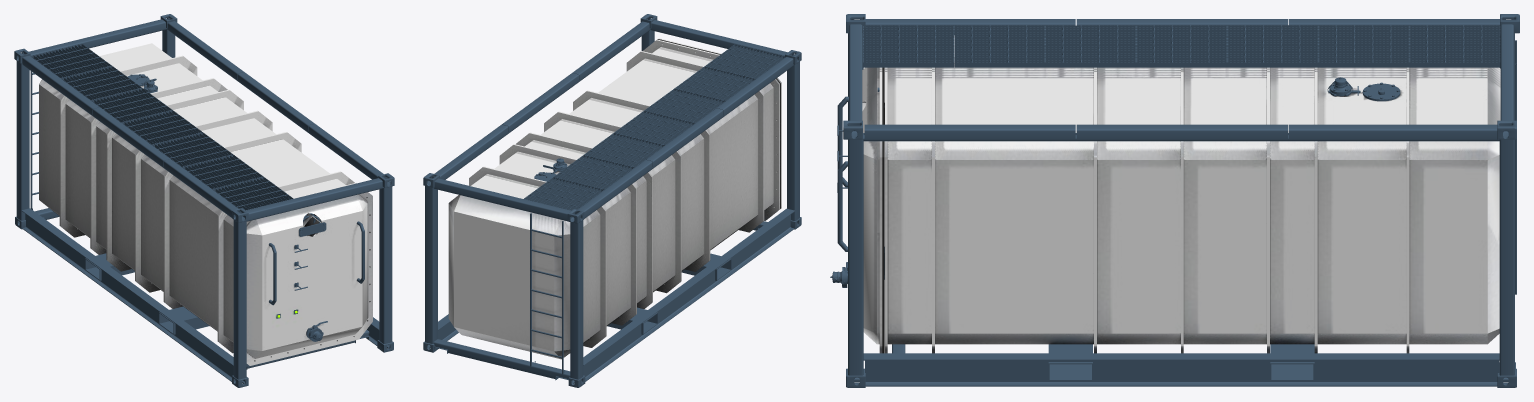
File: kontejner6.glb
3 renders of one model, left to right at view 1: azimuth 30°, elevation 25°; view 2: azimuth 150°, elevation 25°; view 3: azimuth 270°, elevation 25°, orthographic. The views are drawn at different scales.
Parts seen in each view (by area): view 1: Object_285, Object_317.011, Object_317.016, Object_317.036, Object_317.013, Object_317.030, Object_317.028, Object_317.019, Object_317.031, Object_317.020, Object_317.029, Object_317.032 (+11 smaller); view 2: Object_285, Object_317.011, Object_317.010, Object_317.016, Object_317.036, Object_317.002, Object_317.028, Object_317.031, Object_317.029, Object_317.020, Object_317.032, Object_317.030 (+10 smaller); view 3: Object_285, Object_317.016, Object_317.018, Object_317.019, Object_317.020, Object_317.028, Object_317.029, Object_317.030, Object_317.031, Object_317.032, Object_317.027, Object_317.026 (+9 smaller).
Part boxes in pixels (box(x1,y1,x2,y2)): Object_285: box(39, 43, 372, 365); Object_317.011: box(16, 61, 246, 381); Object_317.016: box(162, 29, 392, 345); Object_317.036: box(25, 214, 233, 376); Object_317.013: box(246, 178, 383, 221); Object_317.030: box(151, 132, 232, 166); Object_317.028: box(91, 87, 172, 122); Object_317.019: box(30, 43, 111, 78); Object_317.031: box(182, 154, 263, 188); Object_317.020: box(60, 66, 141, 100); Object_317.029: box(121, 110, 202, 144); Object_317.032: box(212, 176, 293, 210); Object_285: box(448, 38, 781, 359); Object_317.011: box(570, 61, 799, 381); Object_317.010: box(433, 213, 570, 380); Object_317.016: box(425, 28, 654, 343); Object_317.036: box(583, 214, 790, 376); Object_317.002: box(433, 178, 570, 221); Object_317.028: box(584, 133, 664, 167); Object_317.031: box(675, 66, 755, 100); Object_317.029: box(614, 110, 695, 145); Object_317.020: box(554, 155, 634, 189); Object_317.032: box(705, 44, 785, 78); Object_317.030: box(644, 88, 725, 123); Object_285: box(862, 57, 1500, 353); Object_317.016: box(848, 133, 1514, 386); Object_317.018: box(865, 360, 1499, 381); Object_317.019: box(1409, 25, 1500, 67); Object_317.020: box(1318, 25, 1409, 67); Object_317.028: box(1227, 25, 1318, 67); Object_317.029: box(1136, 25, 1227, 67); Object_317.030: box(1045, 25, 1136, 67); Object_317.031: box(954, 25, 1045, 67); Object_317.032: box(863, 25, 953, 67); Object_317.027: box(863, 124, 1076, 141); Object_317.026: box(1075, 124, 1288, 141).
Size of what is drawn, in the model's own units: 2.44 by 2.59 by 6.23.
Materials: 4 (1 with a texture image).
